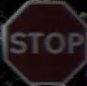Stop: (5, 13, 84, 77)
